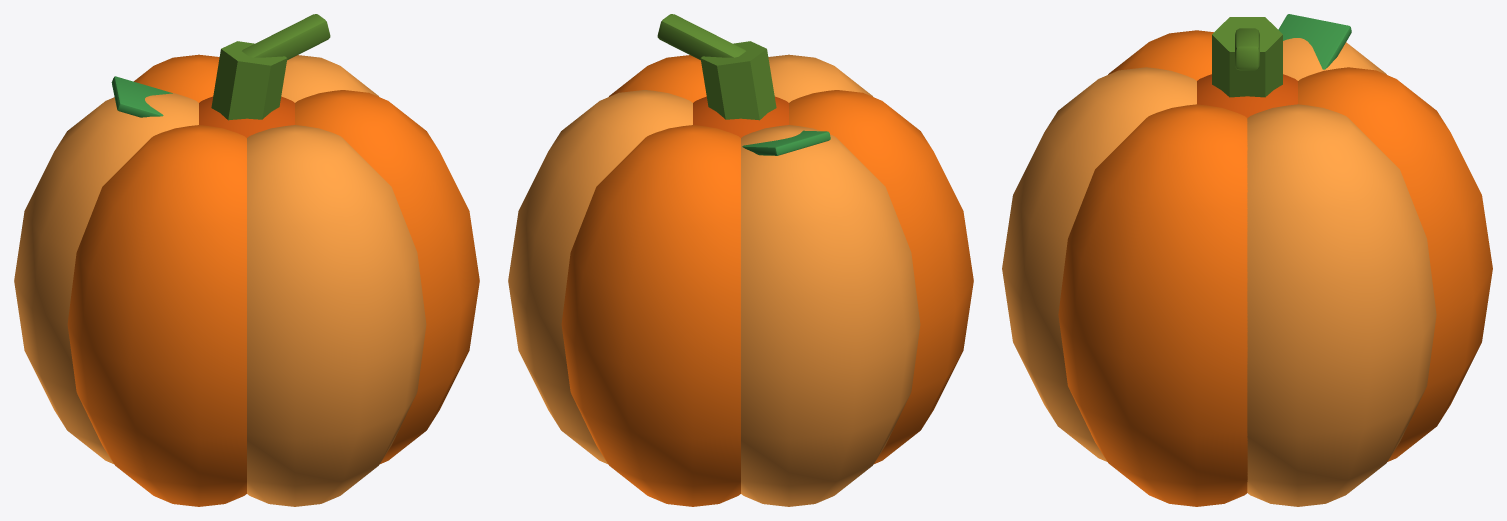
The model's file is prop_02_pumpkin_medium.glb.
3 renders of one model, left to right at view 1: azimuth 30°, elevation 25°; view 2: azimuth 150°, elevation 25°; view 3: azimuth 270°, elevation 25°, orthographic. The views are drawn at different scales.
Visible parts, largest first — view 1: Prop; view 2: Prop; view 3: Prop.
Boxes of the visible parts, bbox=[...] form: Prop: bbox=[14, 14, 479, 506]; Prop: bbox=[508, 14, 973, 506]; Prop: bbox=[1002, 14, 1492, 506].
Size of the model in its own units: 0.4582 by 0.493 by 0.485.
1 material, 1 textured.
